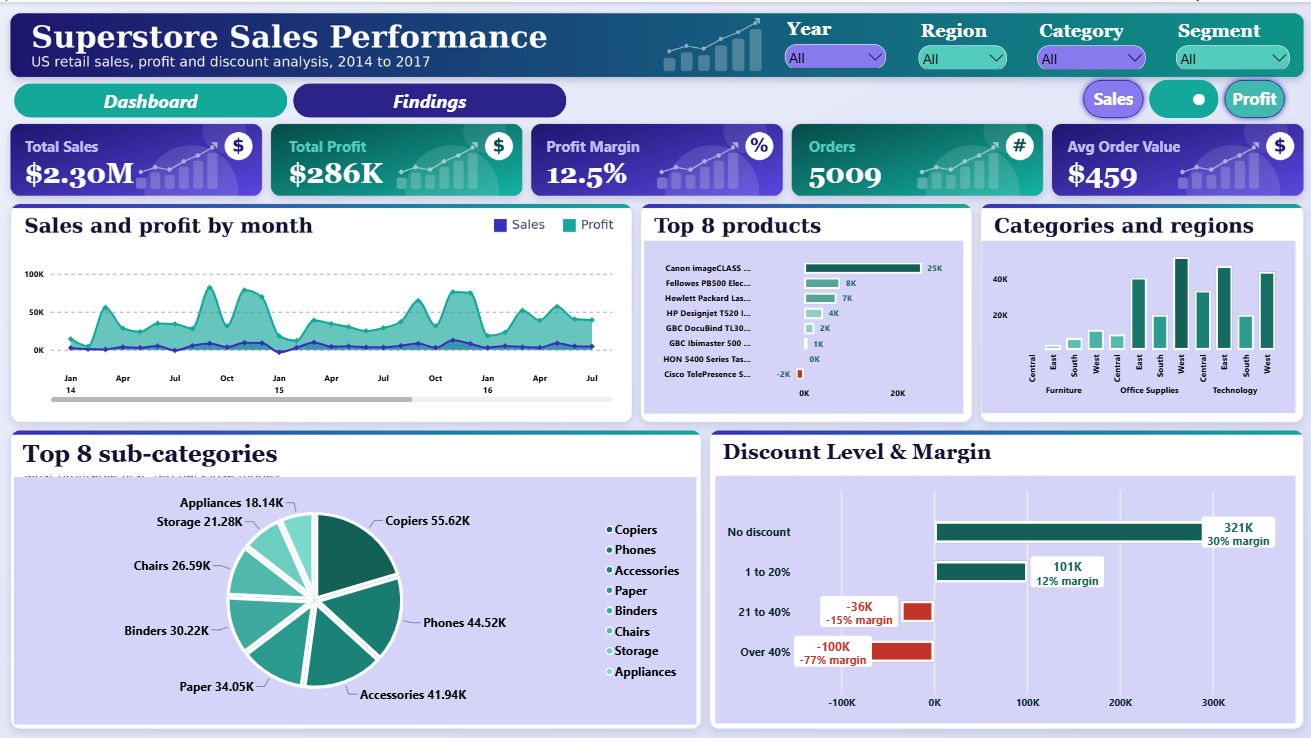

The dashboard page shown, as its layout file describes it:
{"tool":"powerbi","page":{"name":"Dashboard","canvas":[1920,1080],"ordinal":1},"visuals":[{"type":"cardVisual","fields":{"Data":["Superstore.Total Sales"]},"box":[29,184.6,345.8,98.8],"z":0},{"type":"cardVisual","fields":{"Data":["Superstore.Total Profit"]},"box":[410.8,184.5,345.8,98.8],"z":1000},{"type":"cardVisual","fields":{"Data":["Superstore.Orders"]},"box":[1164.2,184.5,345.8,98.8],"z":2000},{"type":"cardVisual","fields":{"Data":["Superstore.Profit Margin"]},"box":[783.4,184.5,345.8,98.8],"z":3000},{"type":"cardVisual","fields":{"Data":["Superstore.Avg Order Value"]},"box":[1538.8,184.5,345.8,98.8],"z":4000},{"type":"slicer","fields":{"Values":["Date.Year"]},"box":[1140.8,23,156.4,72],"z":5000},{"type":"slicer","fields":{"Values":["Superstore.Region"]},"box":[1334.2,25.1,137.9,72],"z":6000},{"type":"slicer","fields":{"Values":["Superstore.Category"]},"box":[1505.1,25.1,166.7,72],"z":7000},{"type":"slicer","fields":{"Values":["Superstore.Segment"]},"box":[1706.8,25.1,175,72],"z":8000},{"type":"lineChart","fields":{"Category":["Date.Axis Label"],"Y":["Superstore.Total Profit","Superstore.Total Sales"]},"box":[27.9,346.3,884.4,249.5],"z":9000},{"type":"pageNavigator","box":[29,117.6,800,50],"z":10000},{"type":"shape","box":[734.7,124.9,43.4,36.2],"z":11000},{"type":"clusteredBarChart","fields":{"Category":["Superstore.Product Name"],"Y":["Superstore.Total Sales"]},"box":[941,345.6,462,250],"z":12000},{"type":"clusteredColumnChart","fields":{"Category":["Superstore.Category","Superstore.Region"],"Y":["Superstore.Total Sales"]},"box":[1429.6,345.6,454.2,249.7],"z":14000},{"type":"shape","title":"Top 8 sub-categories ","box":[41.6,633.4,508.5,52.5],"z":16000},{"type":"clusteredBarChart","fields":{"Category":["Superstore.Discount Band"],"Y":["Superstore.Total Sales"]},"box":[1042.4,685.9,839.7,358.3],"z":17000},{"type":"shape","title":"Discount Level & Margin ","box":[1055,633.4,508.5,52.5],"z":18000},{"type":"donutChart","fields":{"Category":["Superstore.Sub-Category"],"Y":["Superstore.Total Sales"]},"box":[29.8,685.2,986,358.3],"z":19000},{"type":"bookmarkNavigator","box":[1672.1,112.2,101.3,56.1],"z":20000},{"type":"clusteredBarChart","fields":{"Category":["Superstore.Discount Band"],"Y":["Superstore.Total Sales"]},"box":[1044.5,685.2,839.7,358.3],"z":21000},{"type":"shape","box":[1773.5,105,103.2,70.6],"z":23002},{"type":"shape","box":[1569,105,103.2,70.6],"z":23003}]}

Visuals, with their boxes in screenshot pixels (x1, y1, x2, y2), scaled from the page's 1920x1080 canvas onto the 1311x738 screenshot:
cardVisual - Superstore.Total Sales: left=20, top=126, right=256, bottom=194
cardVisual - Superstore.Total Profit: left=280, top=126, right=517, bottom=194
cardVisual - Superstore.Orders: left=795, top=126, right=1031, bottom=194
cardVisual - Superstore.Profit Margin: left=535, top=126, right=771, bottom=194
cardVisual - Superstore.Avg Order Value: left=1051, top=126, right=1287, bottom=194
slicer - Date.Year: left=779, top=16, right=886, bottom=65
slicer - Superstore.Region: left=911, top=17, right=1005, bottom=66
slicer - Superstore.Category: left=1028, top=17, right=1142, bottom=66
slicer - Superstore.Segment: left=1165, top=17, right=1285, bottom=66
lineChart - Date.Axis Label x Superstore.Total Profit: left=19, top=237, right=623, bottom=407
pageNavigator: left=20, top=80, right=566, bottom=115
shape: left=502, top=85, right=531, bottom=110
clusteredBarChart - Superstore.Product Name x Superstore.Total Sales: left=643, top=236, right=958, bottom=407
clusteredColumnChart - Superstore.Category x Superstore.Region: left=976, top=236, right=1286, bottom=407
"Top 8 sub-categories " shape: left=28, top=433, right=376, bottom=469
clusteredBarChart - Superstore.Discount Band x Superstore.Total Sales: left=712, top=469, right=1285, bottom=714
"Discount Level & Margin " shape: left=720, top=433, right=1068, bottom=469
donutChart - Superstore.Sub-Category x Superstore.Total Sales: left=20, top=468, right=694, bottom=713
bookmarkNavigator: left=1142, top=77, right=1211, bottom=115
clusteredBarChart - Superstore.Discount Band x Superstore.Total Sales: left=713, top=468, right=1287, bottom=713
shape: left=1211, top=72, right=1281, bottom=120
shape: left=1071, top=72, right=1142, bottom=120
